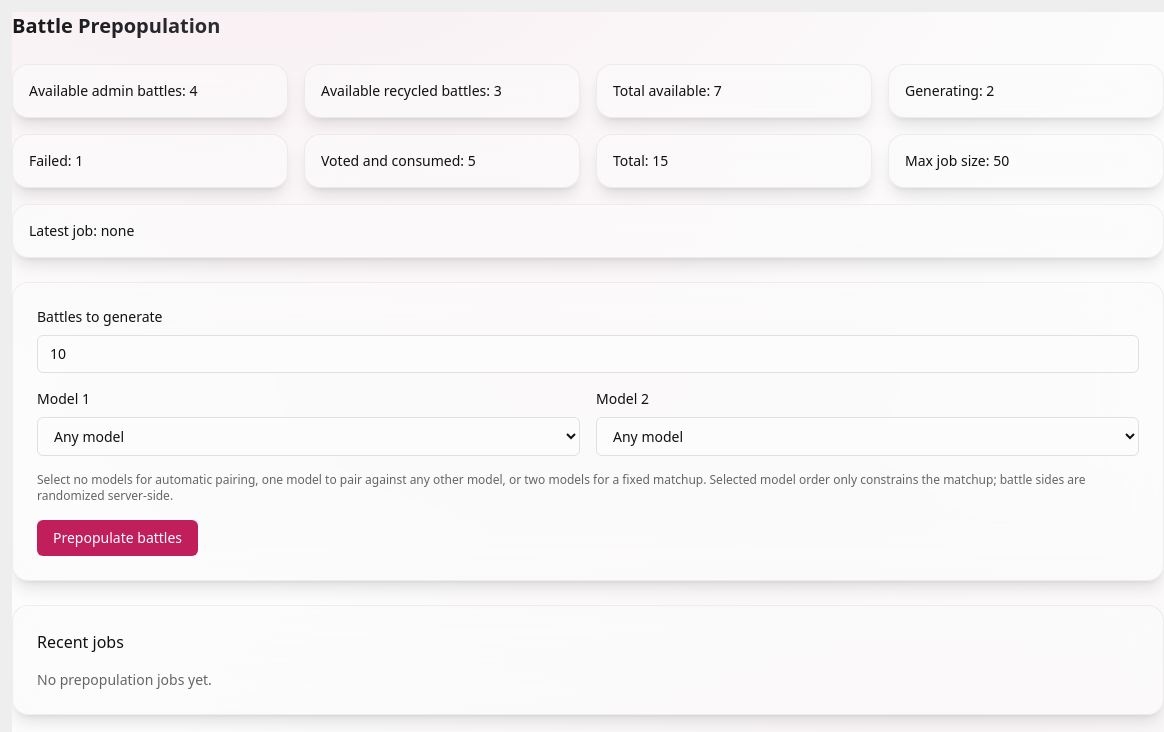
Test: AdminBattlePrepopulationRoute › displays API errors from job submission
expect the text "Total available: 7" is shown: met, box [613,81,722,100]
Click the button "Prepopulate battles".
click(118, 538)  # box [37,520,198,556]
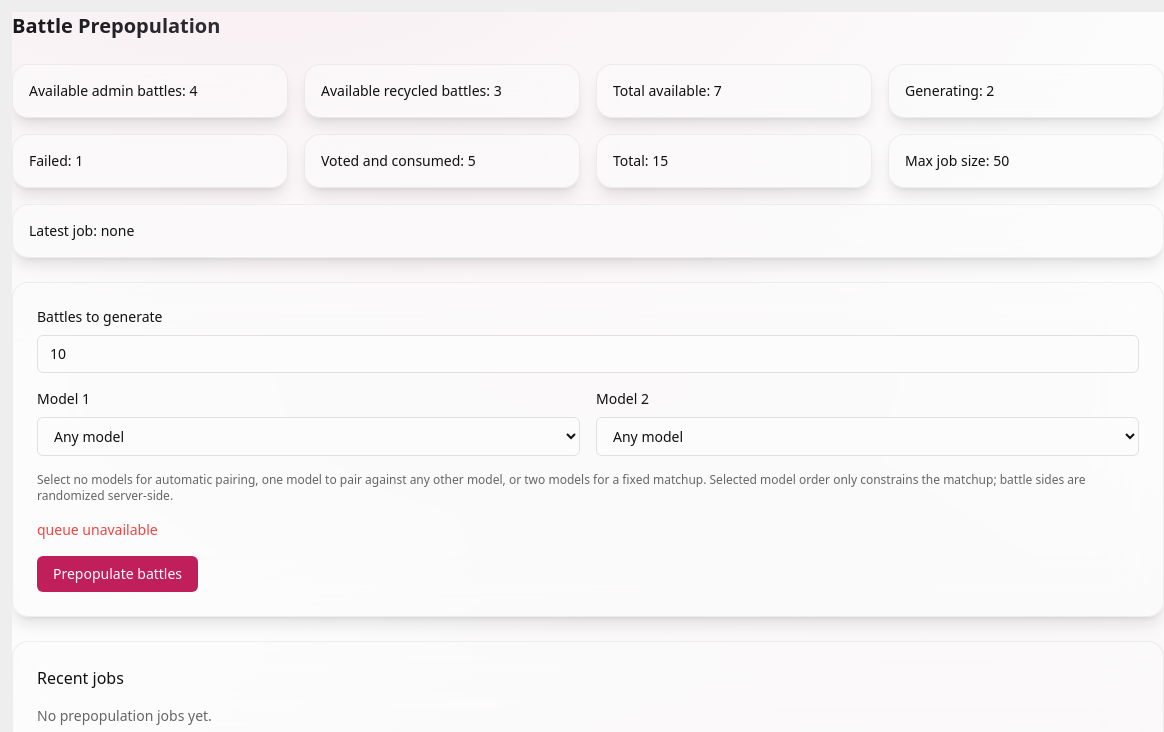
expect the text "queue unavailable" is shown: met, box [37,520,158,539]
